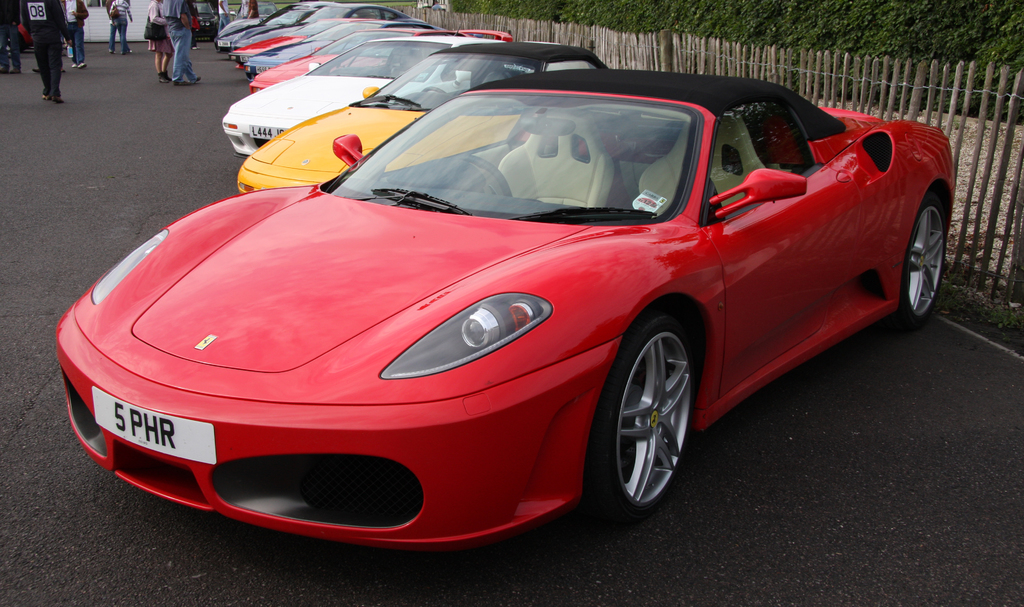Car: (56, 0, 956, 553)
